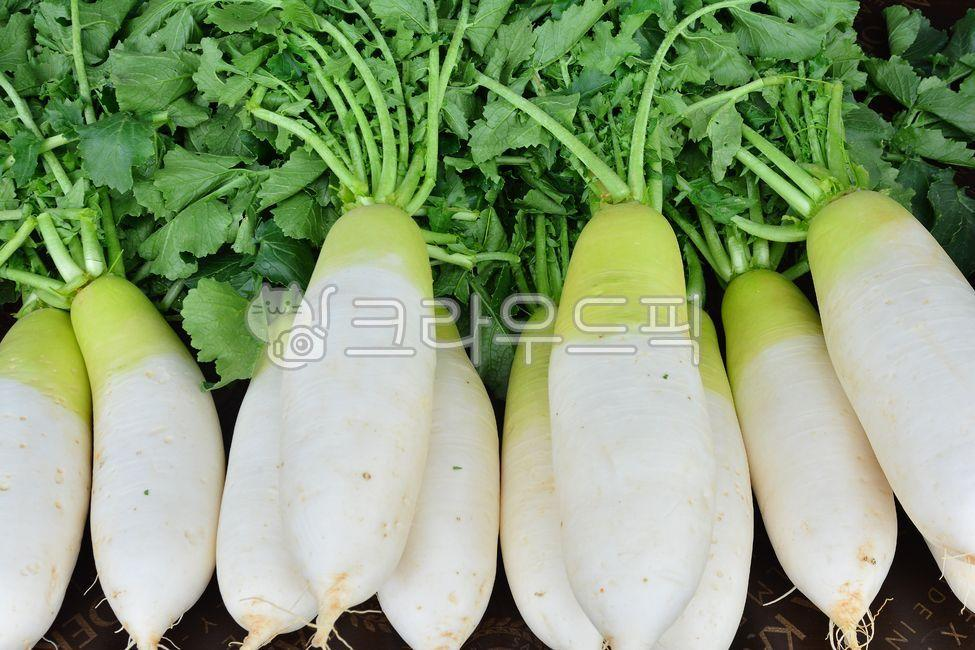radish: (422, 198, 666, 650), (104, 276, 347, 650), (830, 198, 975, 650), (846, 190, 975, 650), (0, 303, 139, 650)
